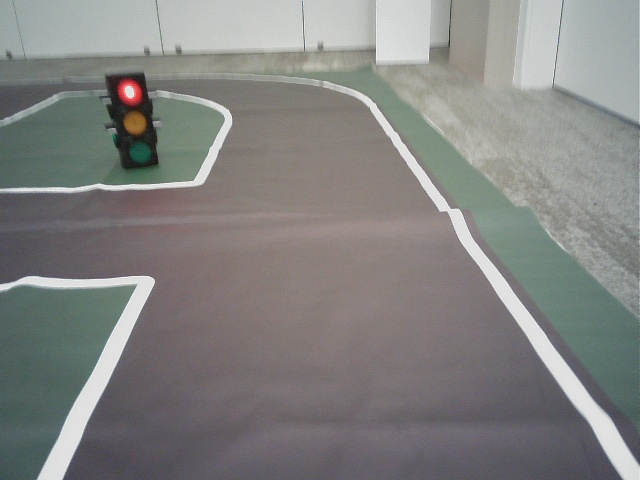red: (116, 80, 154, 164)
